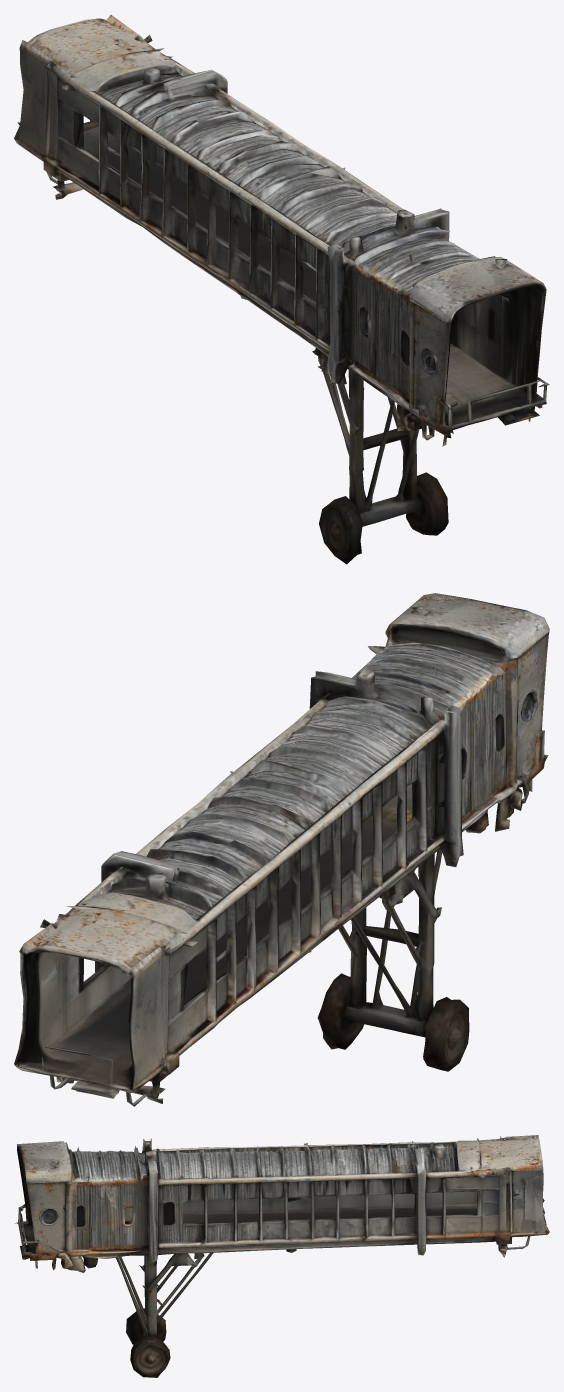
File: ap_jetbridge.glb
3 renders of one model, top to bottom at view 1: azimuth 30°, elevation 25°; view 2: azimuth 150°, elevation 25°; view 3: azimuth 270°, elevation 25°, orthographic. The views are drawn at different scales.
Parts seen in each view (by area): view 1: tripo_node_c6b15edc-d8ad-49c6-8019-bfab2d1df882; view 2: tripo_node_c6b15edc-d8ad-49c6-8019-bfab2d1df882; view 3: tripo_node_c6b15edc-d8ad-49c6-8019-bfab2d1df882.
Boxes of the visible parts, left/top/right/bottom form: tripo_node_c6b15edc-d8ad-49c6-8019-bfab2d1df882: left=14, top=15, right=549, bottom=564; tripo_node_c6b15edc-d8ad-49c6-8019-bfab2d1df882: left=14, top=593, right=549, bottom=1106; tripo_node_c6b15edc-d8ad-49c6-8019-bfab2d1df882: left=15, top=1135, right=549, bottom=1377.
Size of the model in its own units: 0.208 by 0.4393 by 0.9807.
Materials: 1 (1 with a texture image).
